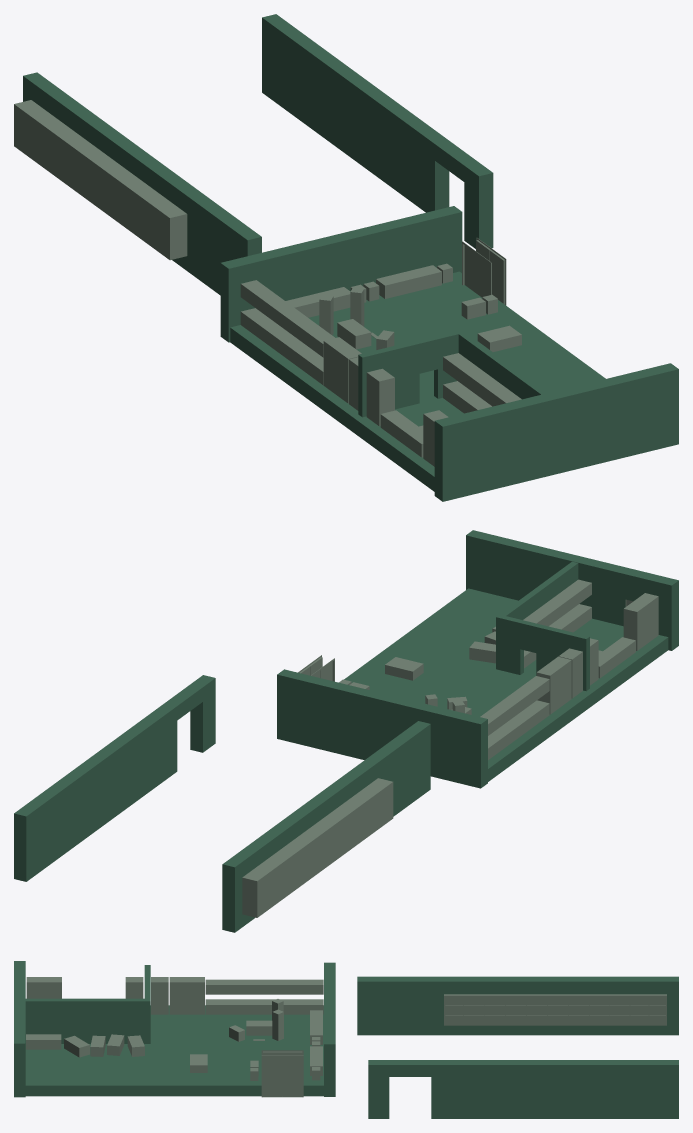
The model's file is ProjDev_Morgue.fbx.
The picture shows the model from 3 angles, top to bottom: view 1: azimuth 30°, elevation 25°; view 2: azimuth 150°, elevation 25°; view 3: azimuth 270°, elevation 25°; orthographic projection. The views are drawn at different scales.
Parts seen in each view (by area): view 1: Cube__76_002, Cube__76_005, Floor_Morgue, Cube__11_001, Cube__76_011, Cube__76_004, Cube 77, Box009, Box006, MainDoor_Morgue, Cube 78, Box028 (+8 smaller); view 2: Floor_Morgue, Cube__76_005, Cube__11_001, Cube__76_002, Cube__76_004, Cube__76_011, Cube 77, Box025, Cube 78, Box009, Box006, Box028 (+5 smaller); view 3: Cube__76_005, Floor_Morgue, Cube__76_004, Cube__76_011, Cube 78, MainDoor_Morgue, Box009, Box006, Cube__76_002, Cube__11_001, Box007, Box025 (+13 smaller).
Boxes of the visible parts, x1,y1,x2,y2 form: Cube__76_002: (434, 363, 678, 501); Cube__76_005: (262, 14, 493, 248); Floor_Morgue: (230, 271, 605, 491); Cube__11_001: (220, 206, 462, 342); Cube__76_011: (14, 100, 187, 260); Cube__76_004: (23, 72, 261, 295); Cube 77: (358, 329, 465, 417); Box009: (240, 280, 334, 357); Box006: (240, 308, 323, 385); MainDoor_Morgue: (462, 238, 506, 305); Cube 78: (458, 332, 547, 399); Box028: (443, 353, 521, 406); Floor_Morgue: (344, 588, 668, 781); Cube__76_005: (14, 675, 215, 881); Cube__11_001: (277, 669, 487, 788); Cube__76_002: (466, 530, 678, 650); Cube__76_004: (222, 721, 430, 932); Cube__76_011: (242, 778, 393, 917); Cube 77: (496, 614, 589, 691); Box025: (623, 593, 658, 650); Cube 78: (500, 561, 578, 619); Box009: (480, 676, 549, 735); Box006: (488, 700, 549, 759); Box028: (523, 579, 591, 626); Cube__76_005: (368, 1060, 678, 1118); Floor_Morgue: (25, 1005, 323, 1096); Cube__76_004: (357, 976, 678, 1035); Cube__76_011: (444, 994, 666, 1025); Cube 78: (25, 998, 145, 1043); MainDoor_Morgue: (261, 1050, 303, 1097); Box009: (205, 979, 323, 994); Box006: (205, 999, 323, 1014); Cube__76_002: (14, 961, 25, 1097); Cube__11_001: (324, 962, 335, 1096); Box007: (169, 977, 204, 1014); Box025: (26, 977, 61, 998).
Bounding box in the file's own units: 2088 × 503 × 5638.
